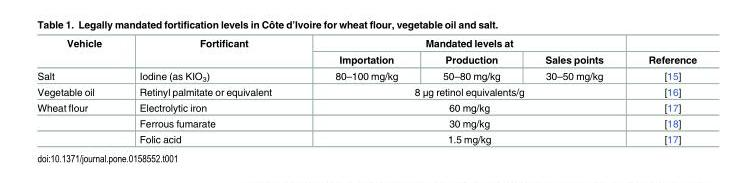table: (36, 36, 696, 144)
table column: (119, 36, 302, 144), (302, 36, 419, 144), (419, 36, 522, 144), (522, 36, 625, 144), (36, 36, 119, 144), (625, 36, 696, 144)
table column header: (36, 36, 696, 67)
table row: (36, 50, 696, 67), (36, 67, 696, 83), (36, 83, 696, 99), (36, 99, 696, 115), (36, 115, 696, 130), (36, 36, 696, 50), (36, 130, 696, 144)
table spanning cell: (119, 36, 302, 67), (302, 83, 625, 99), (302, 99, 625, 115), (302, 115, 625, 130), (302, 36, 625, 50), (302, 130, 625, 144), (36, 99, 119, 144), (36, 36, 119, 67), (625, 36, 696, 67)
